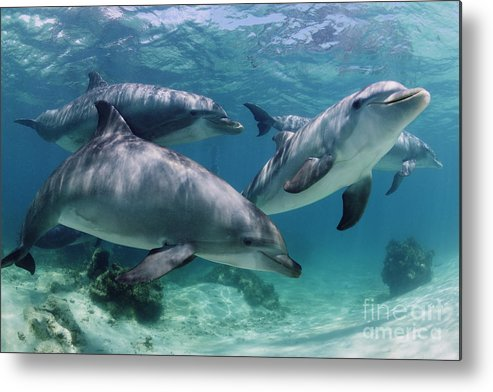dolphin: (5, 114, 313, 312), (235, 75, 439, 215), (10, 67, 249, 153)
